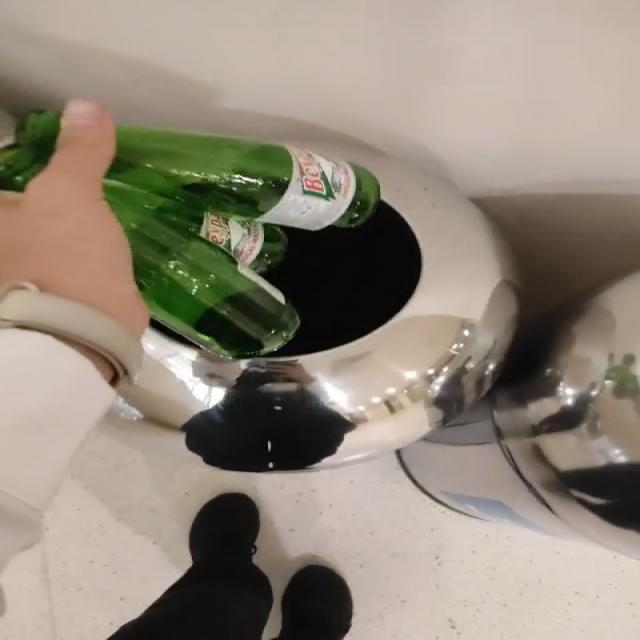Other: (0, 420, 440, 486)
